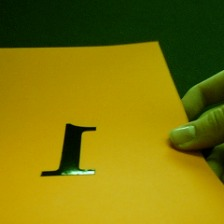orange1: (32, 117, 102, 178)
